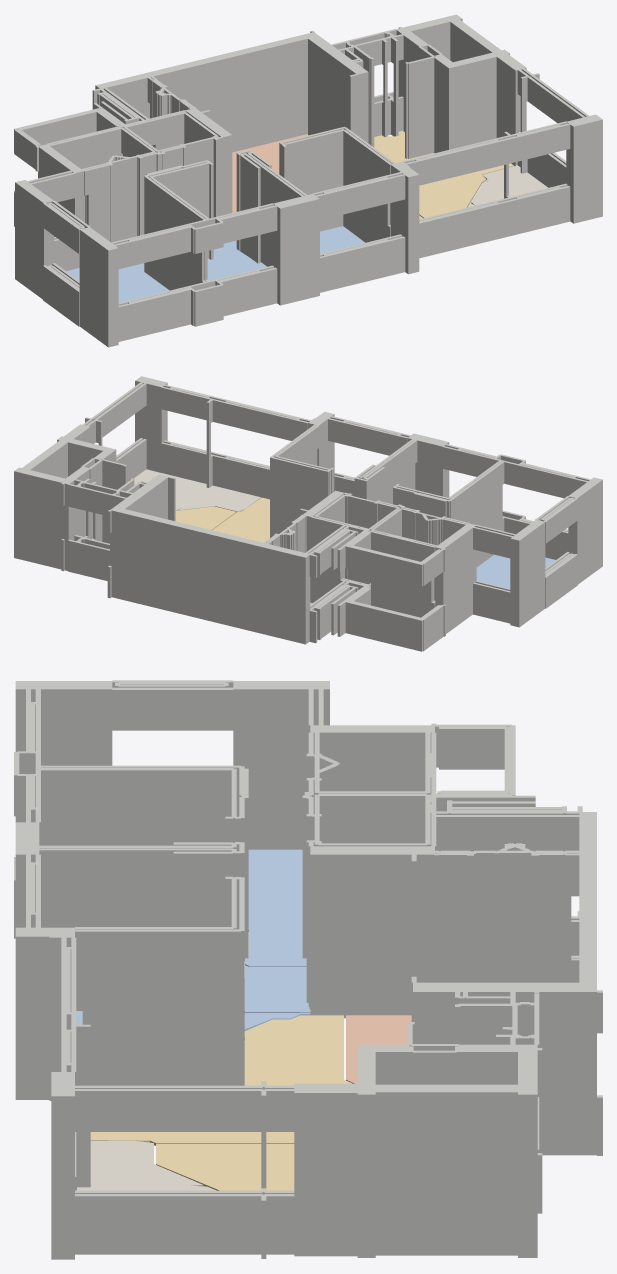
The picture shows the model from 3 angles, top to bottom: view 1: azimuth 30°, elevation 25°; view 2: azimuth 150°, elevation 25°; view 3: azimuth 270°, elevation 25°; orthographic projection. The views are drawn at different scales.
Parts seen in each view (by area): view 1: walls, room:living:3, room:other:0, room:bedroom:11, room:bedroom:6, room:kitchen:5, room:bedroom:1; view 2: walls, room:other:0, room:living:2, room:bedroom:11, room:living:3; view 3: walls, room:living:2, room:bedroom:11, room:living:3, room:other:0, room:bedroom:6, room:kitchen:5.
Boxes of the visible parts, <box> form: walls: <box>14,14,602,347</box>; room:living:3: <box>374,130,513,218</box>; room:other:0: <box>468,165,548,207</box>; room:bedroom:11: <box>66,263,169,302</box>; room:bedroom:6: <box>207,240,266,280</box>; room:kitchen:5: <box>232,134,308,212</box>; room:bedroom:1: <box>320,226,365,253</box>; walls: <box>14,376,602,651</box>; room:other:0: <box>133,469,260,512</box>; room:living:2: <box>212,497,269,542</box>; room:bedroom:11: <box>476,554,555,588</box>; room:living:3: <box>175,506,236,530</box>; walls: <box>14,680,602,1259</box>; room:living:2: <box>90,1015,352,1145</box>; room:bedroom:11: <box>245,849,306,966</box>; room:living:3: <box>156,1144,294,1190</box>; room:other:0: <box>77,1140,216,1190</box>; room:bedroom:6: <box>244,965,310,1012</box>; room:kitchen:5: <box>346,1015,411,1083</box>.
Size of the model in its own units: 15.29 by 2.8 by 9.15.
